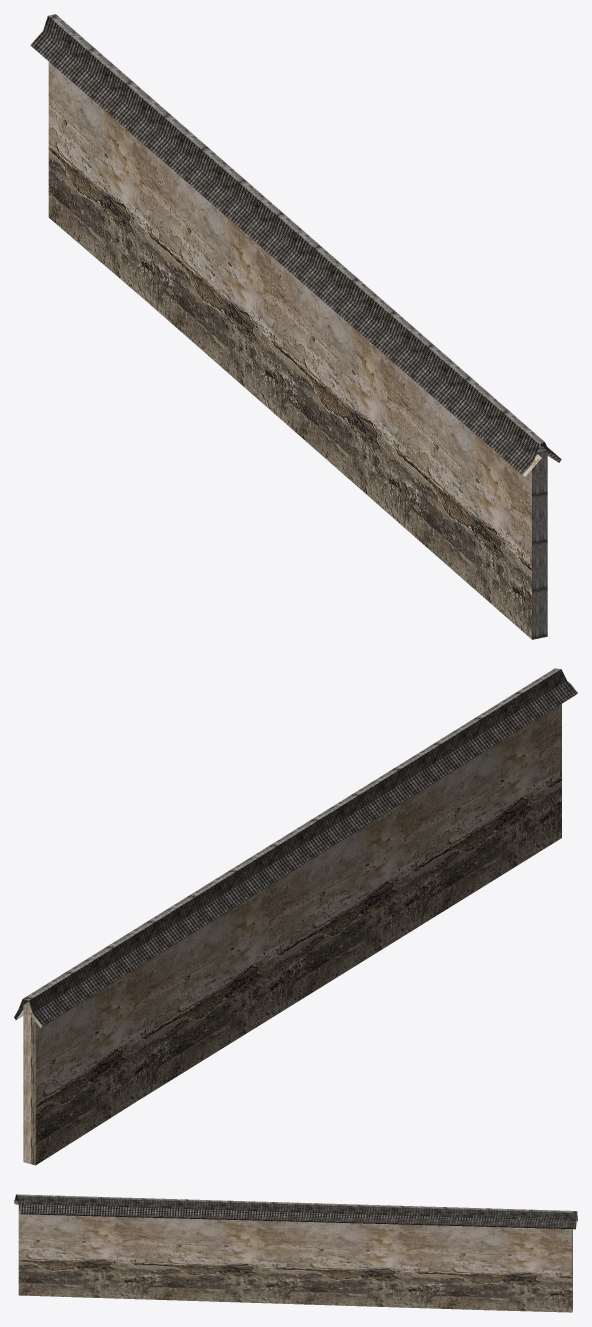
File: ian1623.obj
3 renders of one model, top to bottom at view 1: azimuth 30°, elevation 25°; view 2: azimuth 150°, elevation 25°; view 3: azimuth 270°, elevation 25°, orthographic. The views are drawn at different scales.
Visible parts, largest first — view 1: ian1623; view 2: ian1623; view 3: ian1623.
Part boxes in pixels (x1,y1,x2,y2): ian1623: (30,14,561,639); ian1623: (14,668,577,1165); ian1623: (14,1194,577,1312).
Size of the model in its own units: 39.72 by 70.02 by 362.
